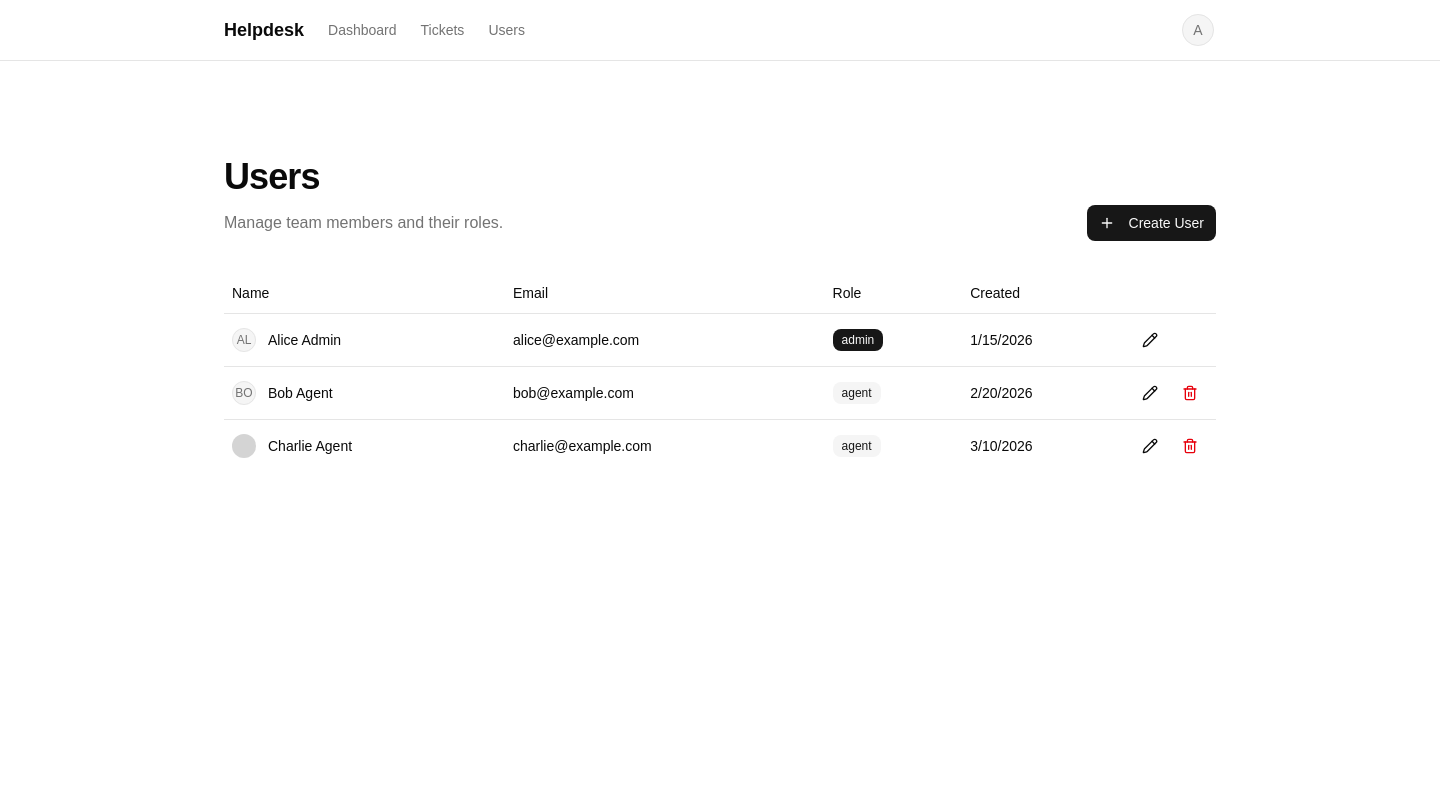
Test: Users page › Create User dialog › closes when Escape key is pressed
The width and height of the screenshot is (1440, 810).
expect the text "Alice Admin" is shown: met, box [268,330,341,350]
Click the button "Create User".
click(1151, 223)  # box [1086,205,1216,241]
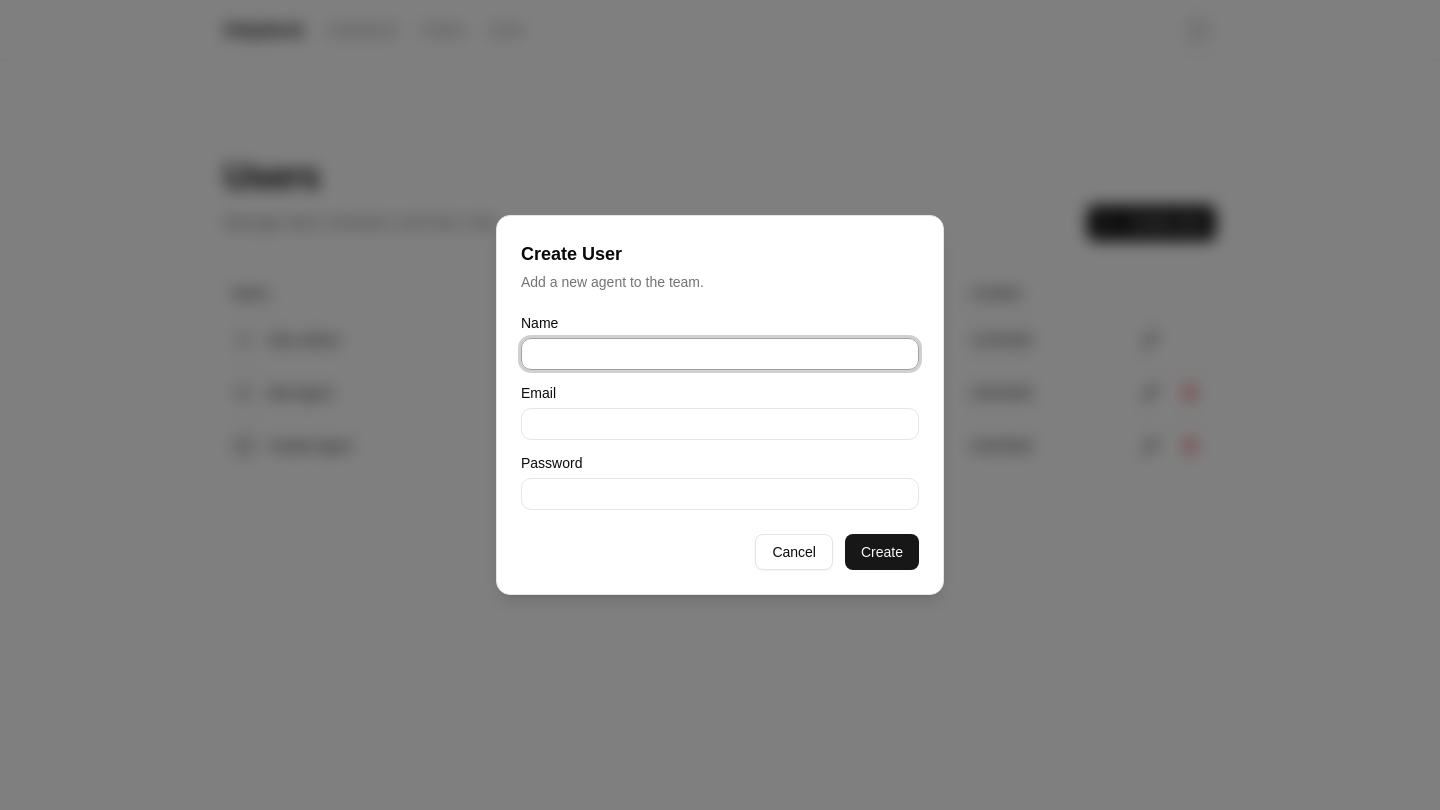
expect the text "Add a new agent to the team." is shown: met, box [521,274,704,290]
Press Escape
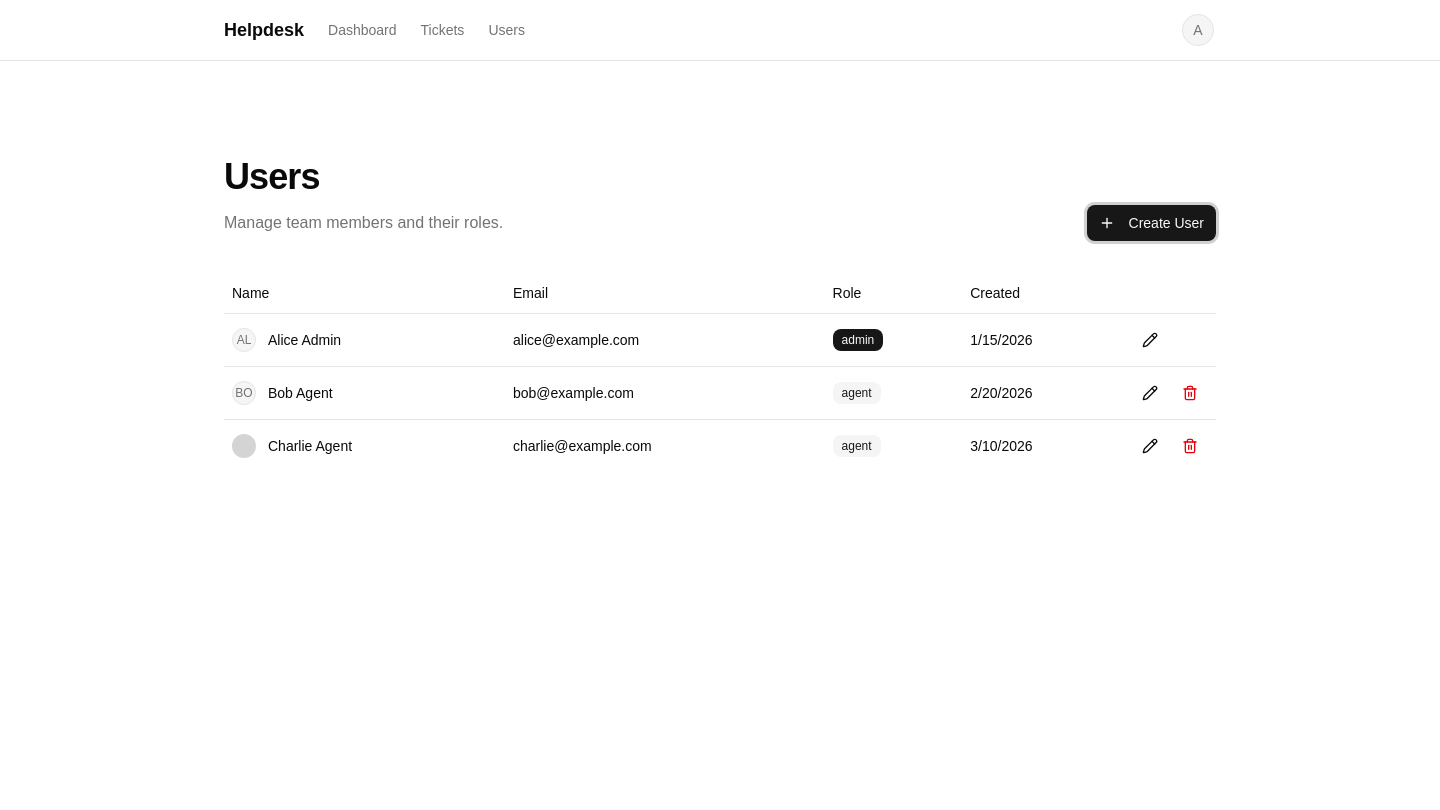
expect the text "Add a new agent to the team." is gone: met
